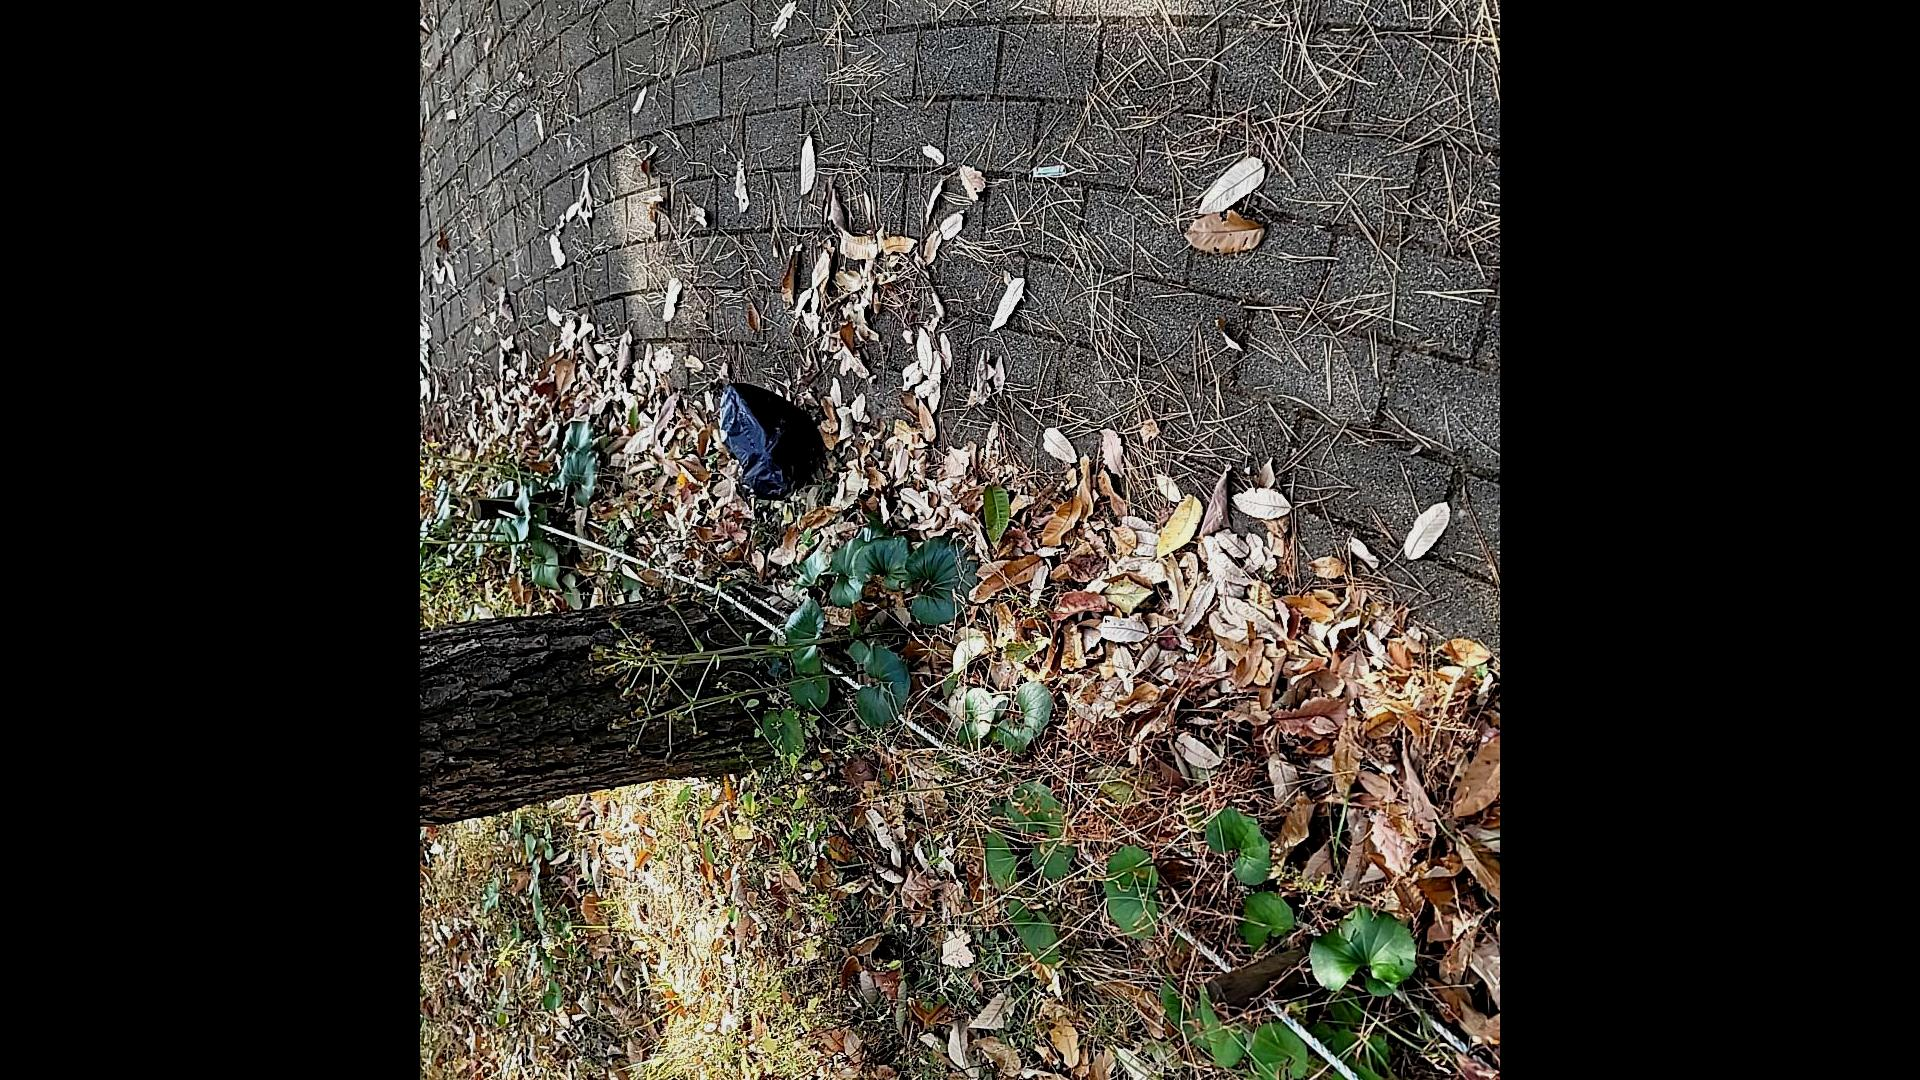black_bag: (711, 378, 827, 509)
